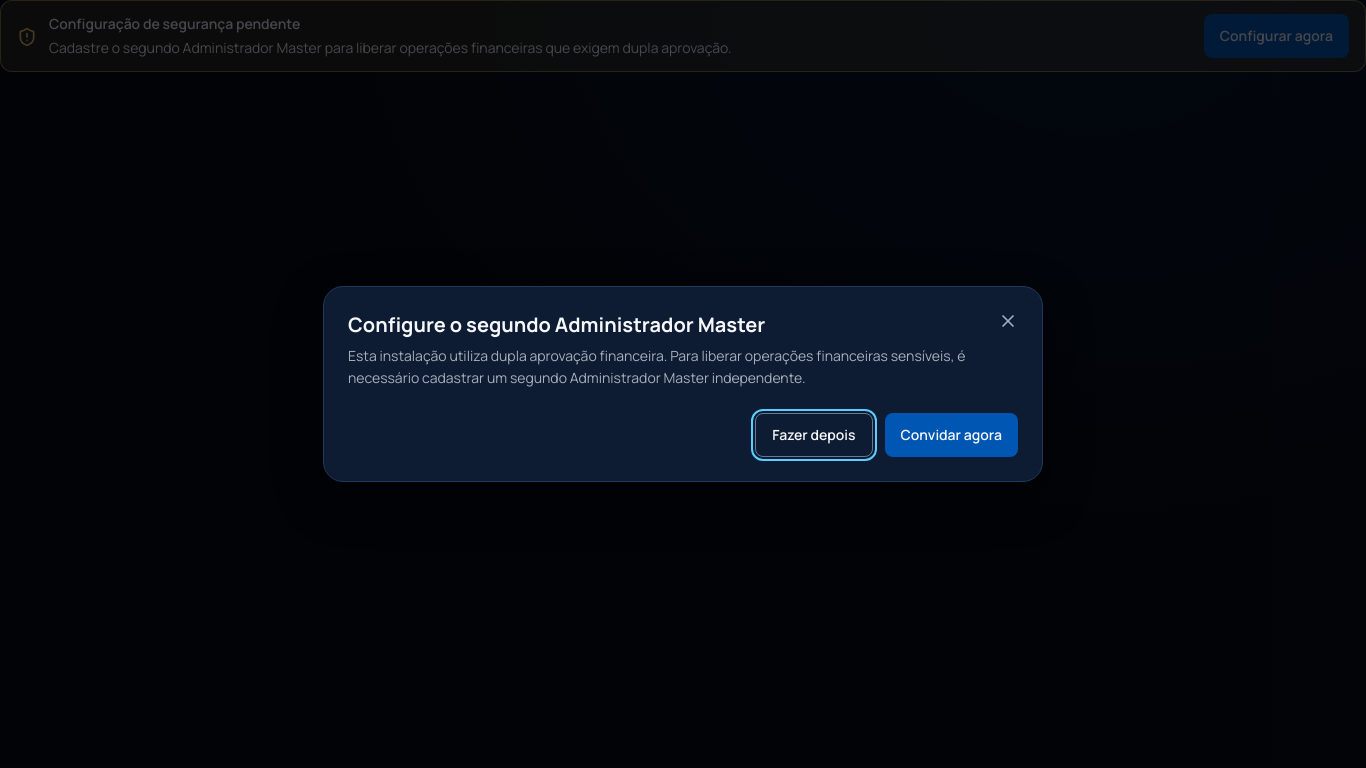
modal e banner do 2º Master › DUPLA + Master + não convidado: modal na sessão com as ações e banner "Configurar agora"
Expected: the dialog "Configure o segundo Administrador Master" shows "Esta instalação utiliza dupla aprovação financeira. Para liberar operações financeiras sensíveis, é necessário cadastrar um segundo Administrador Master indepen", [348, 346, 965, 387]
Expected: the button "Convidar agora" is shown, [884, 413, 1018, 457]
Click the button "Fazer depois": click(814, 435) [755, 413, 872, 457]
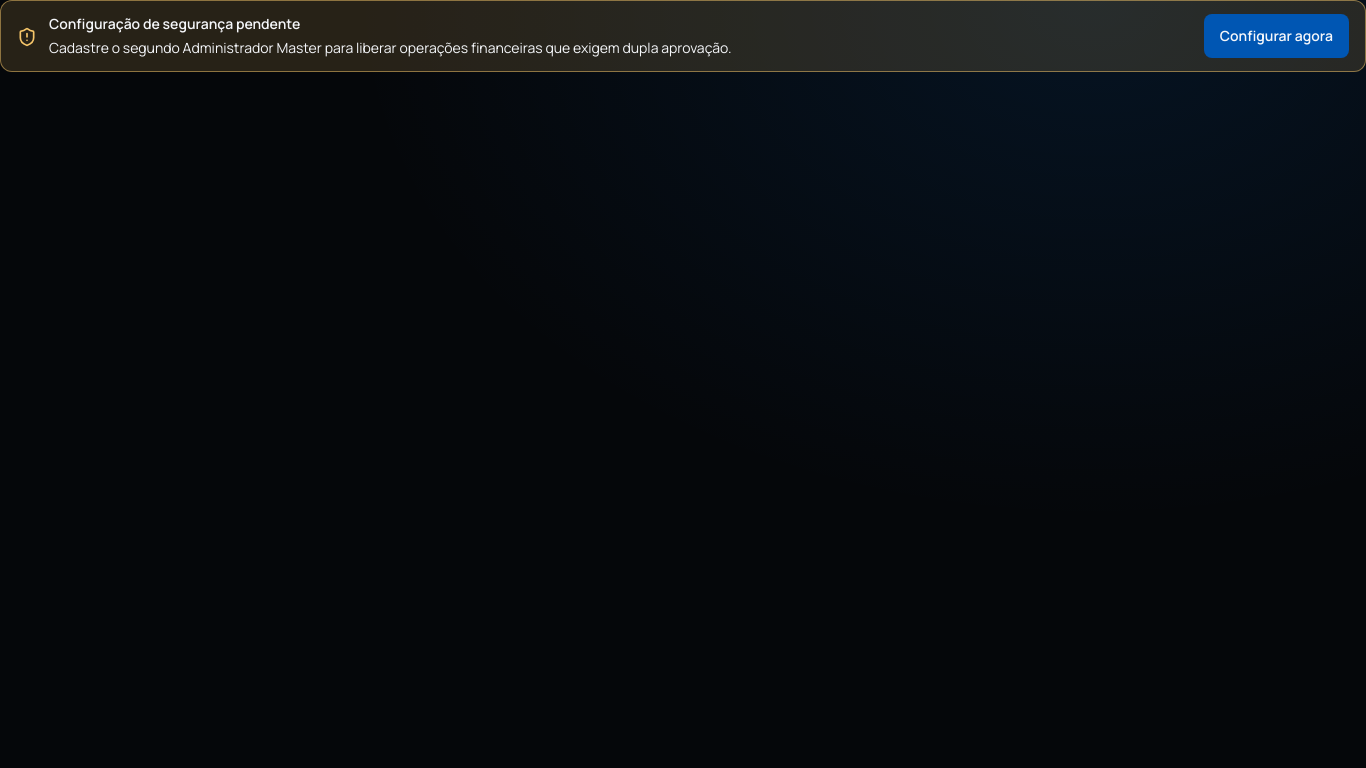
Expected: the message with test id "second-master-banner" is shown, [0, 0, 1365, 72]
Now the dialog is gone
